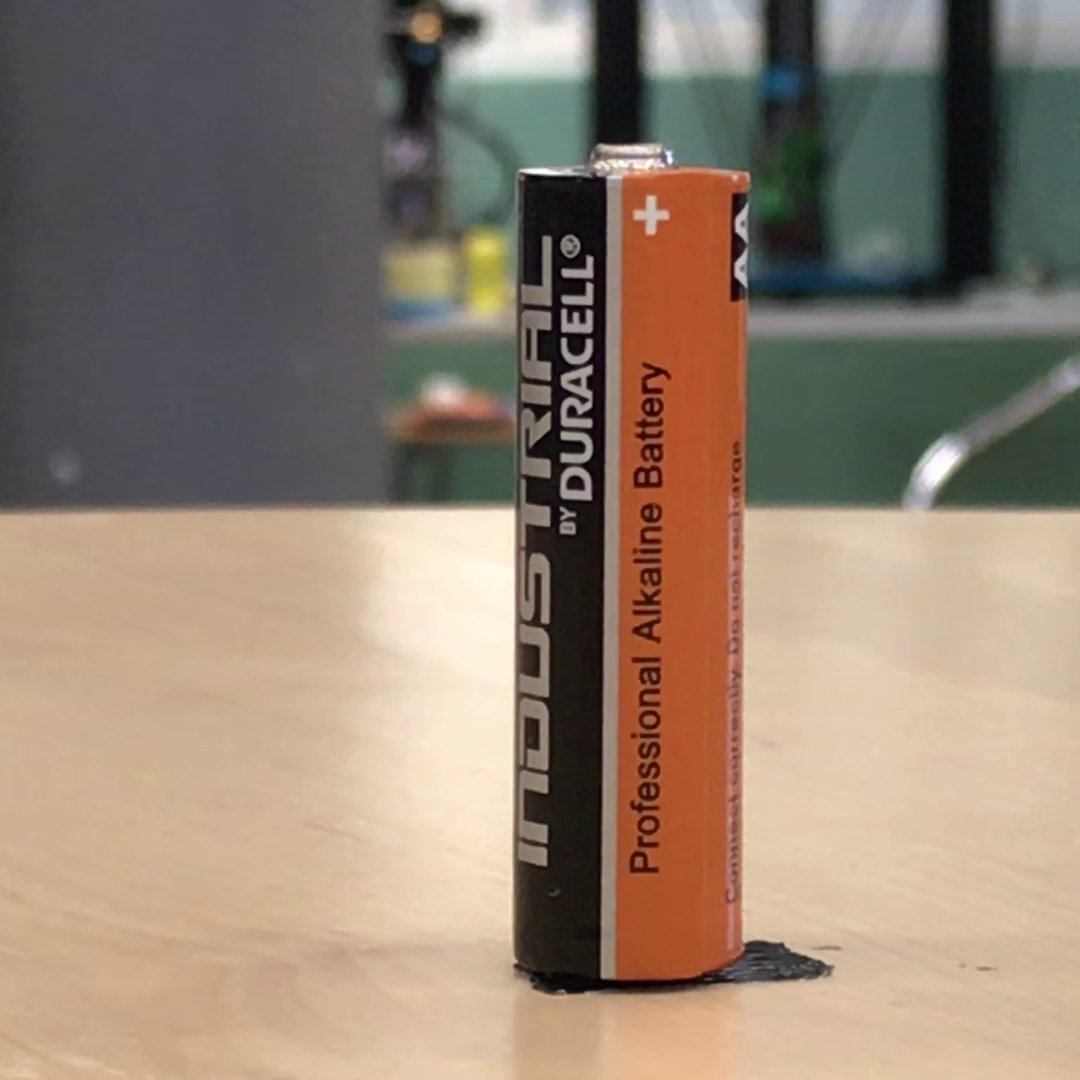keyword: (630, 493, 671, 654)
